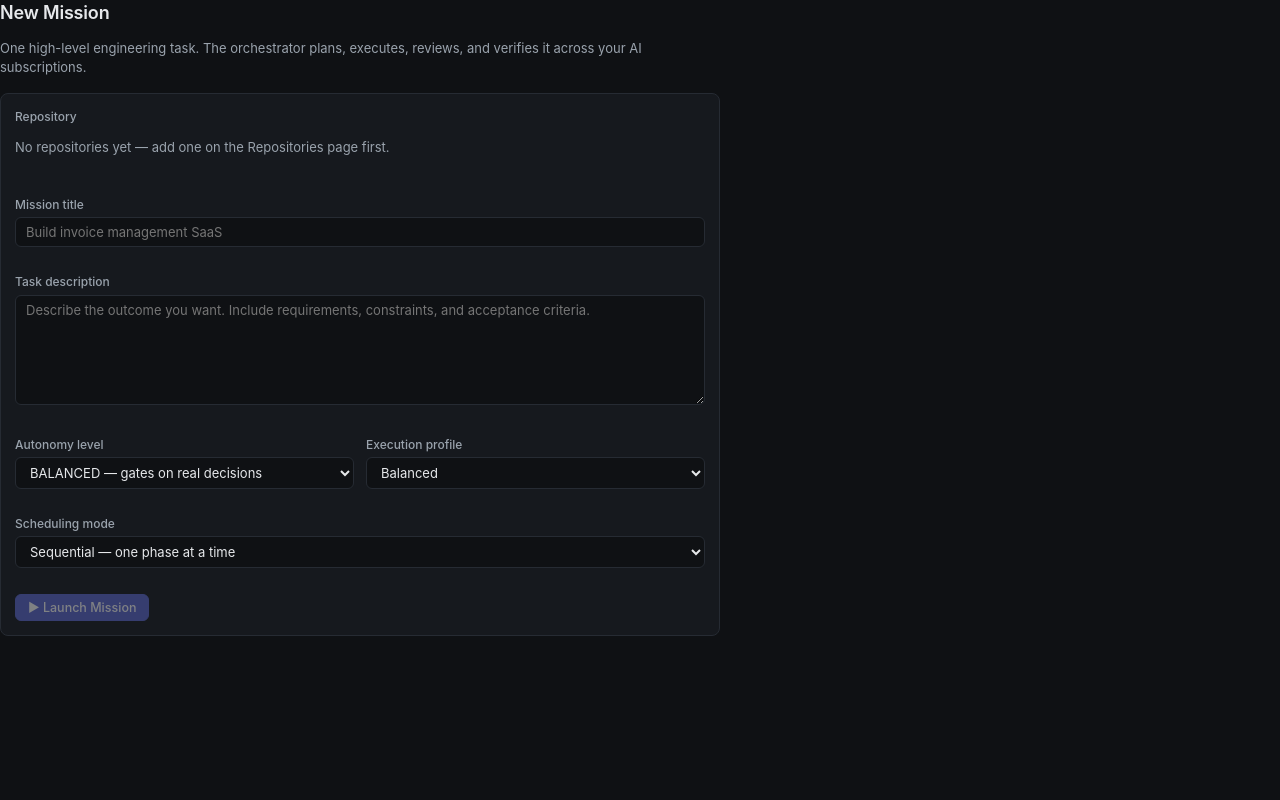
Scenario: NewMissionPage scheduling mode › shows manual DAG editor when selected
Select "Parallel Safe — independent tasks run together" in the dropdown with test id "scheduling-mode" at (360, 552), box 15,536 -> 705,568
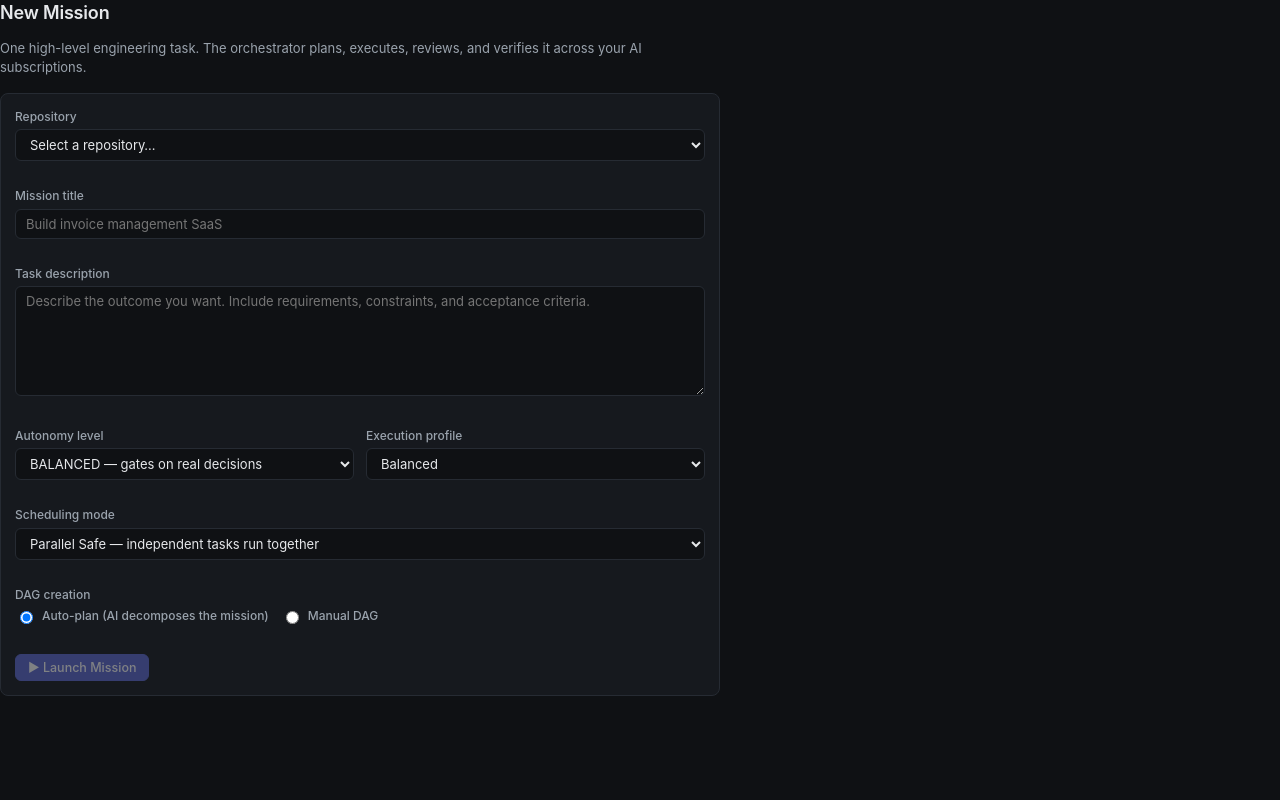
Click the radio button labelled "Manual DAG".
click(292, 617)  # box 286,611 -> 299,624
(page scrolled)
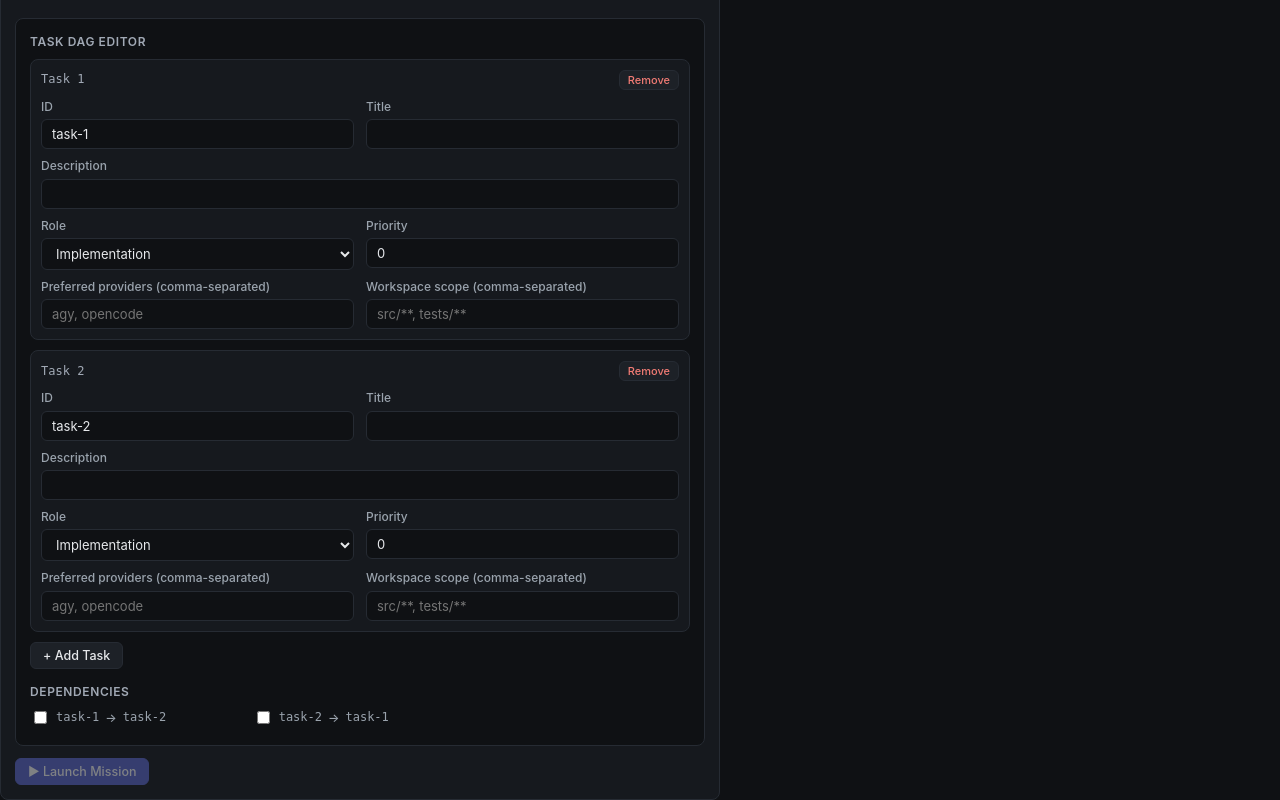
Result: the heading "Task DAG Editor" is shown at 30,34 -> 146,49
Result: the button "+ Add Task" is shown at 30,642 -> 123,669
